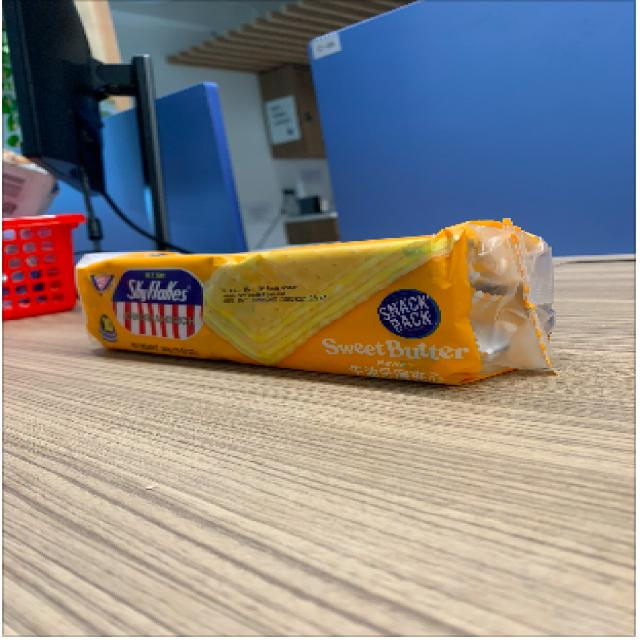object_name: (77, 242, 552, 382)
